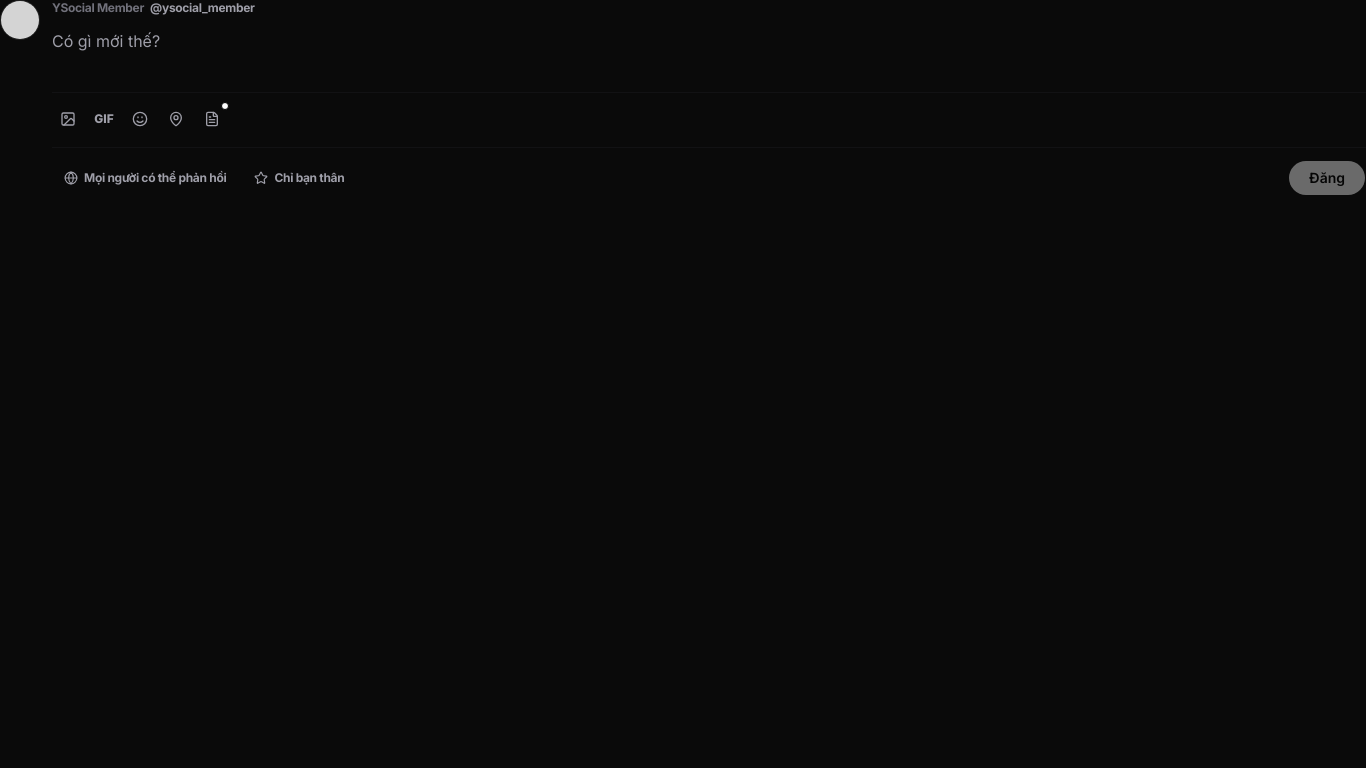
PostCreatorCore close friends visibility › restores the visibility a draft was saved with
Click the button titled "Bản nháp".
click(212, 119)  # box [196,103,228,135]
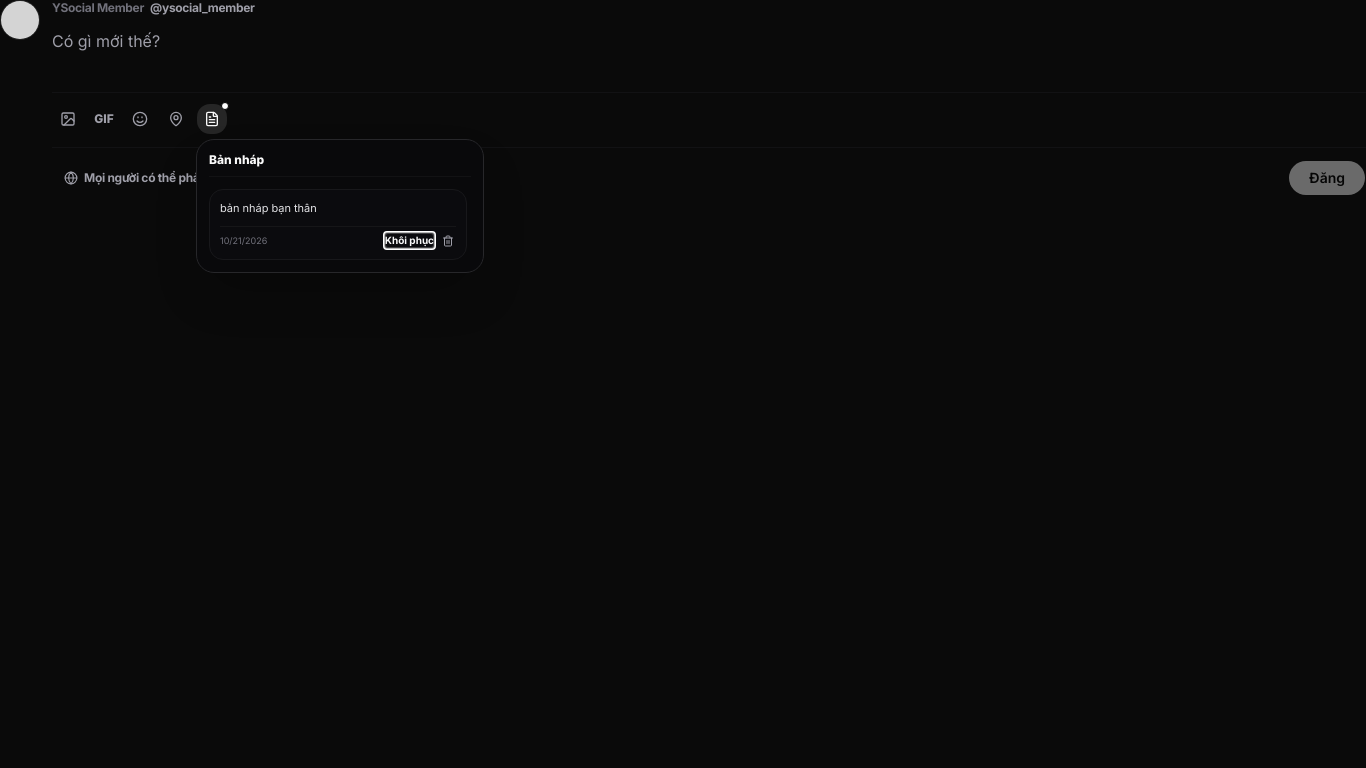
Click the button "Khôi phục".
click(409, 241)  # box [385,233,434,248]
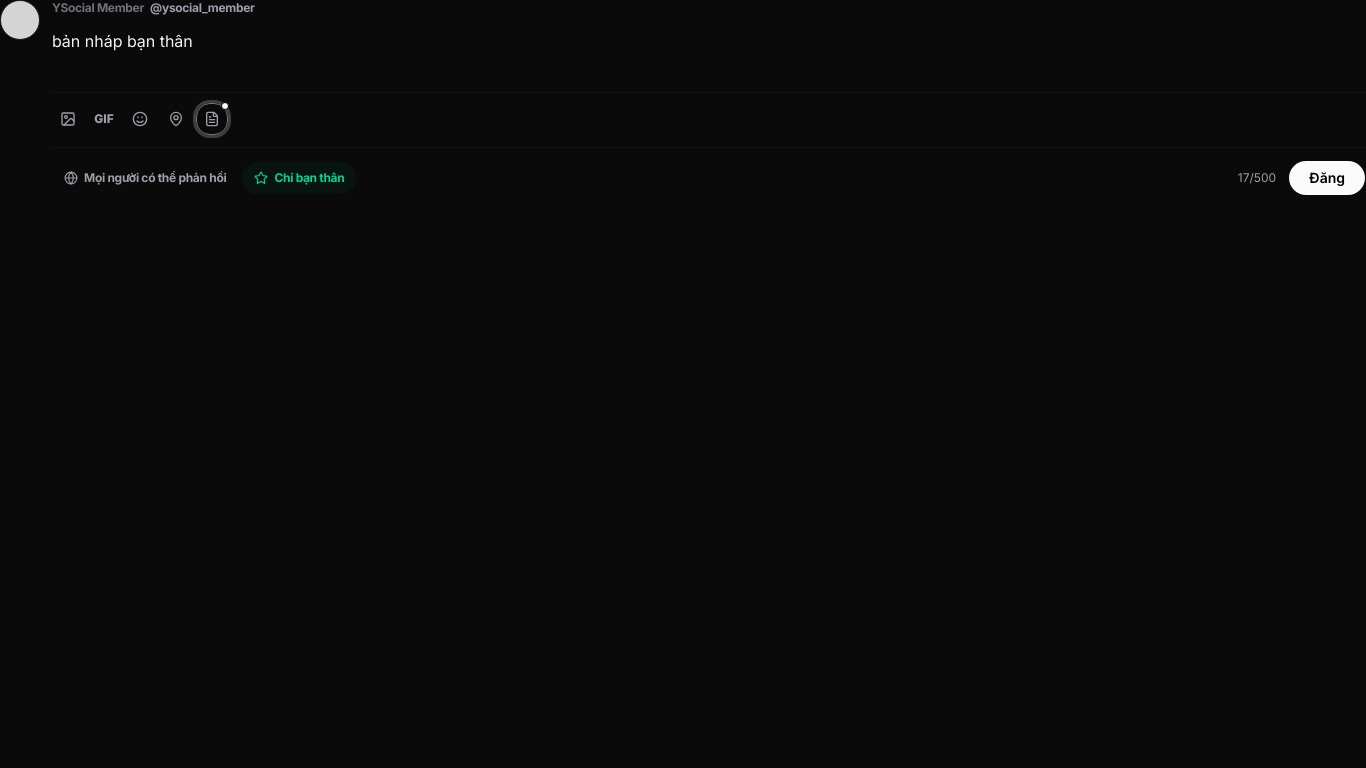
Now the text box holds "bản nháp bạn thân", box [52,24,1365,84]
